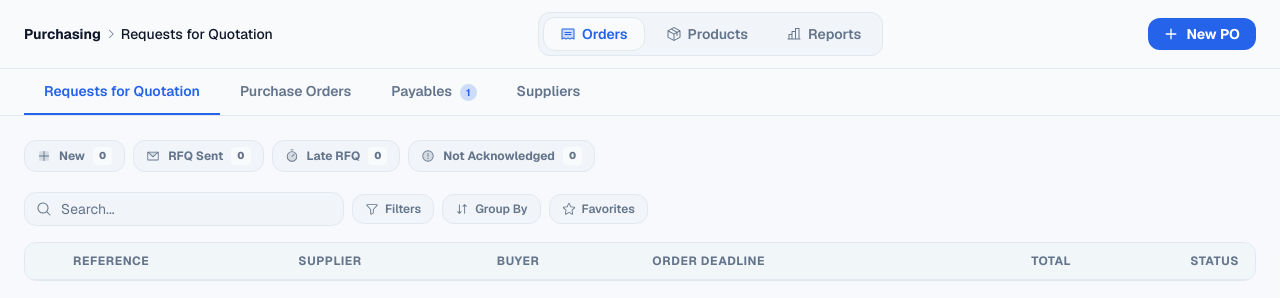
Test: PurchasingModule RFQ and PO behavior › lets admins mark a payable as paid from the Payables table
Click the button "Payables1". click: point(434, 92)
box: [371, 69, 496, 115]
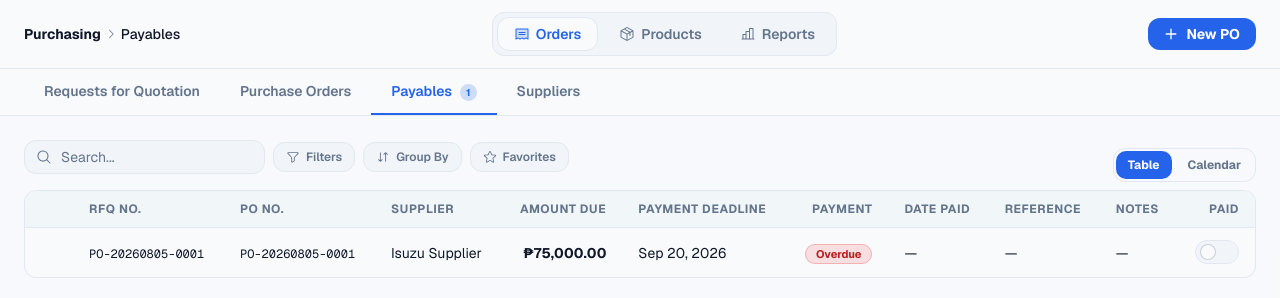
Click the switch named "Mark PO-20260805-0001 as paid". click: point(1217, 252)
box: [1195, 240, 1239, 264]
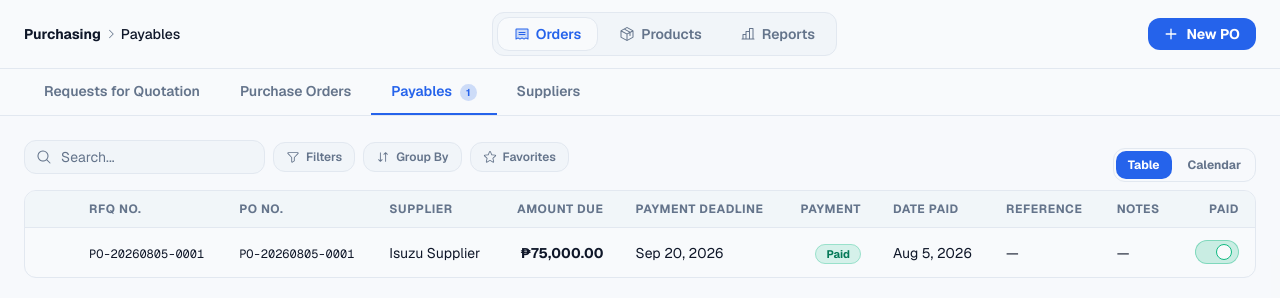
Result: the text "Paid" in the row of "RFQ No." is shown at [1209, 201, 1239, 217]
Result: the text "Aug 5, 2026" is shown at [877, 228, 990, 277]
